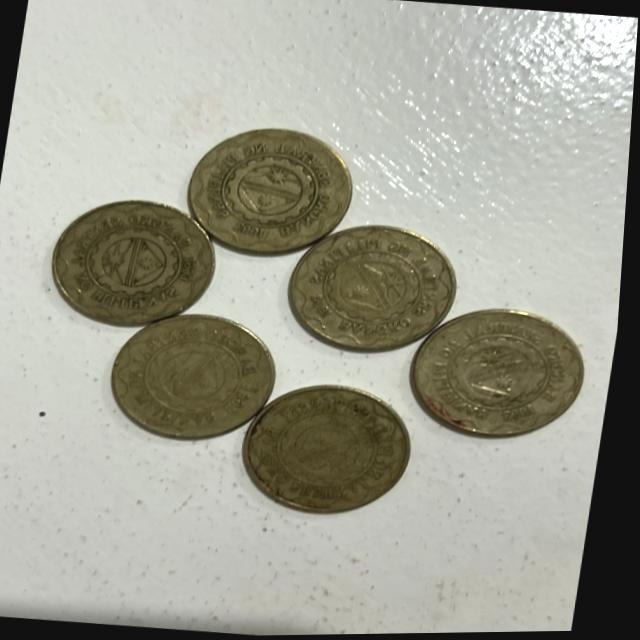5_Old_Back: (175, 108, 374, 272), (398, 299, 593, 450), (236, 375, 420, 527), (274, 219, 465, 360), (43, 199, 230, 335), (104, 313, 258, 428)
